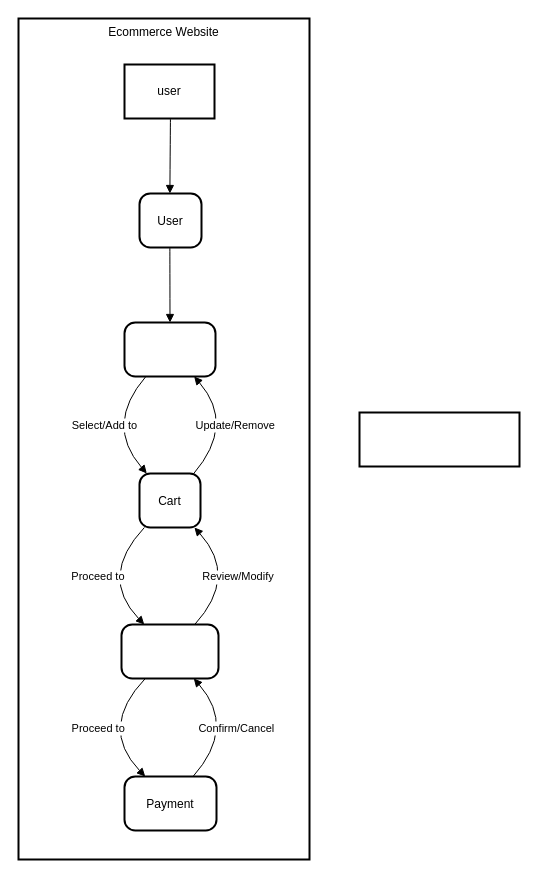
Image size: 537x877. Some labels were removed from this diagram. Here are the shapes that lost their labels. From the top down, the centre of each, then its label:
At point (169, 349): "Products".
At point (439, 439): "ecommerceBg".
At point (169, 651): "Checkout".
